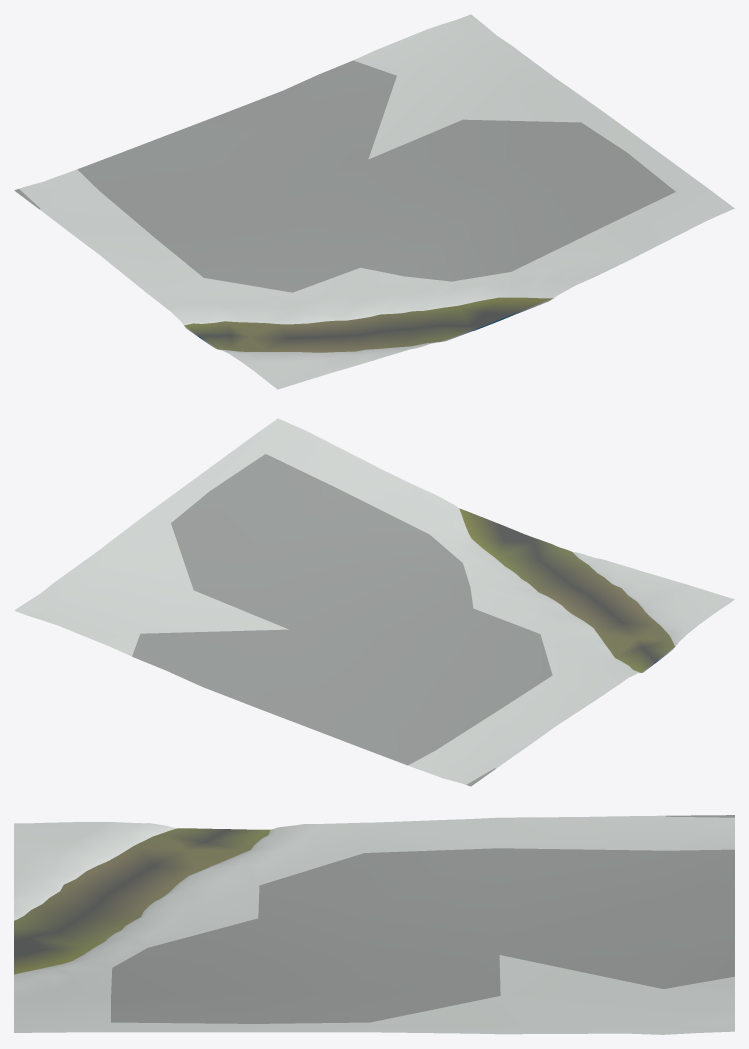
The picture shows the model from 3 angles, top to bottom: view 1: azimuth 30°, elevation 25°; view 2: azimuth 150°, elevation 25°; view 3: azimuth 270°, elevation 25°; orthographic projection. The views are drawn at different scales.
Parts seen in each view (by area): view 1: G:\FFXIV-MapTools\exports\r2f1\bg\ex1\01_roc_r2\fld\r2f1\bgp (×4); view 2: G:\FFXIV-MapTools\exports\r2f1\bg\ex1\01_roc_r2\fld\r2f1\bgp (×4); view 3: G:\FFXIV-MapTools\exports\r2f1\bg\ex1\01_roc_r2\fld\r2f1\bgp (×4).
Part boxes in pixels (x1,y1,x2,y2): G:\FFXIV-MapTools\exports\r2f1\bg\ex1\01_roc_r2\fld\r2f1\bgp (×4): (14,14,734,389); G:\FFXIV-MapTools\exports\r2f1\bg\ex1\01_roc_r2\fld\r2f1\bgp (×4): (14,418,734,786); G:\FFXIV-MapTools\exports\r2f1\bg\ex1\01_roc_r2\fld\r2f1\bgp (×4): (14,815,734,1034).
Bounding box in the file's own units: 128 × 20.5 × 128.
